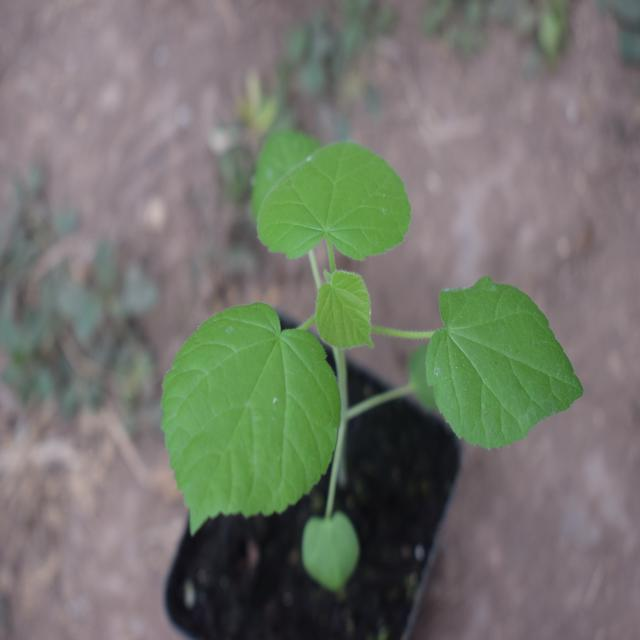abutilon theophrasti: (146, 114, 550, 564)
